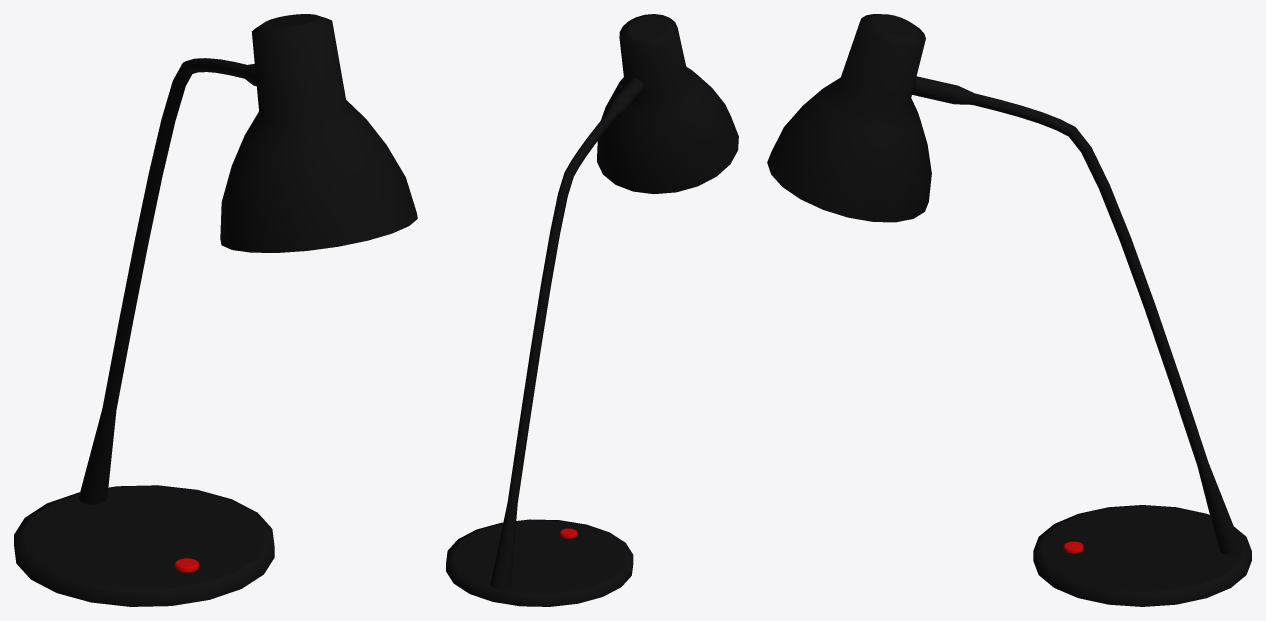
File: Lamp.FBX
3 renders of one model, left to right at view 1: azimuth 30°, elevation 25°; view 2: azimuth 150°, elevation 25°; view 3: azimuth 270°, elevation 25°, orthographic. The views are drawn at different scales.
Parts seen in each view (by area): view 1: Lamp; view 2: Lamp; view 3: Lamp.
Boxes of the visible parts, x1=… form: Lamp: x1=14, y1=14, x2=417, y2=606; Lamp: x1=446, y1=14, x2=738, y2=606; Lamp: x1=767, y1=14, x2=1251, y2=606.
Bounding box in the file's own units: 17.34 × 47.26 × 38.45.
Materials: 2 (1 with a texture image).
